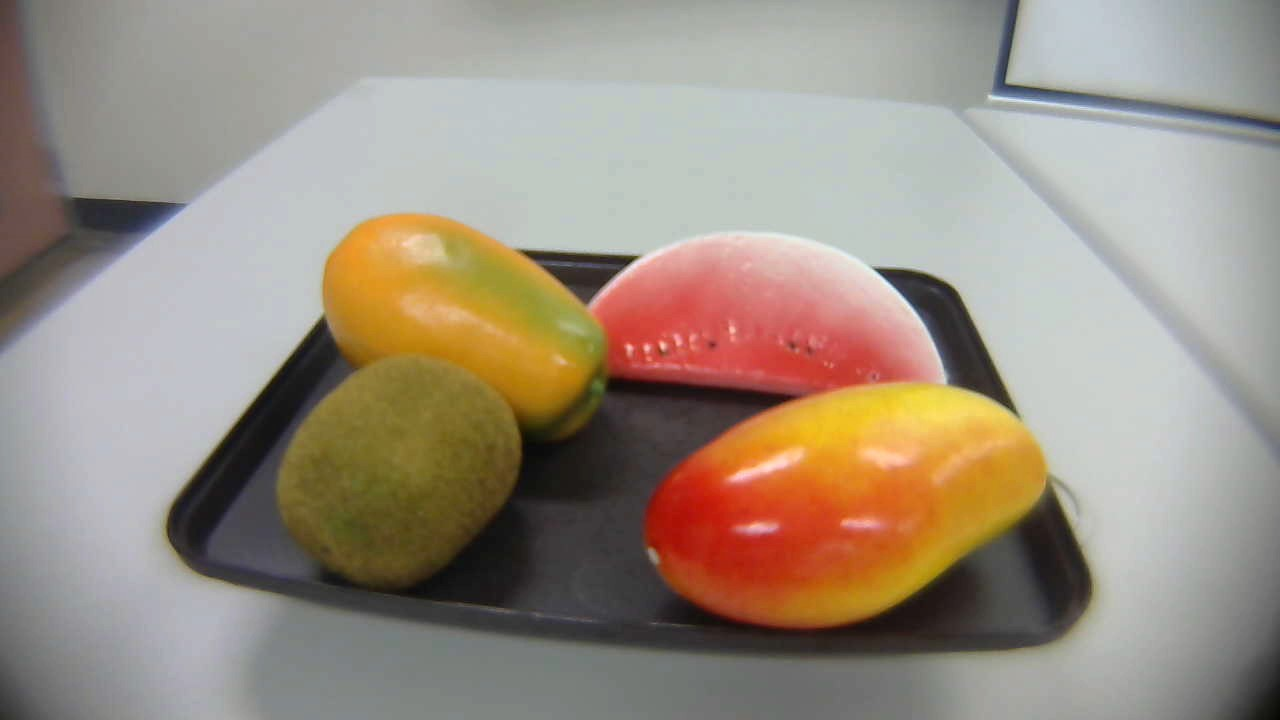kiwi fruit: (272, 355, 520, 585)
papya: (323, 208, 615, 445)
red mango: (638, 382, 1062, 632)
water melon: (593, 230, 954, 422)
